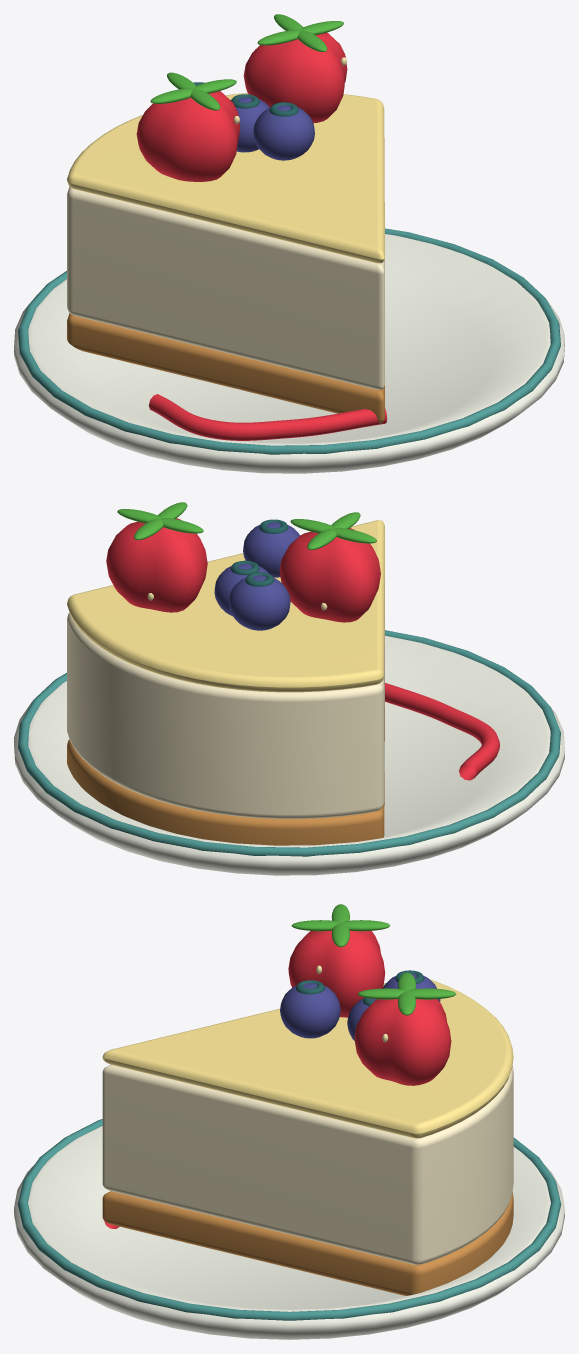
The model's file is cheesecake.glb.
3 renders of one model, top to bottom at view 1: azimuth 30°, elevation 25°; view 2: azimuth 150°, elevation 25°; view 3: azimuth 270°, elevation 25°, orthographic.
Parts seen in each view (by area): view 1: cheesecake_mesh; view 2: cheesecake_mesh; view 3: cheesecake_mesh.
Part boxes in pixels (x1,y1,x2,y2): cheesecake_mesh: (14, 14, 564, 473); cheesecake_mesh: (14, 502, 564, 875); cheesecake_mesh: (14, 904, 564, 1339).
Size of the model in its own units: 0.375 by 0.2168 by 0.375.
